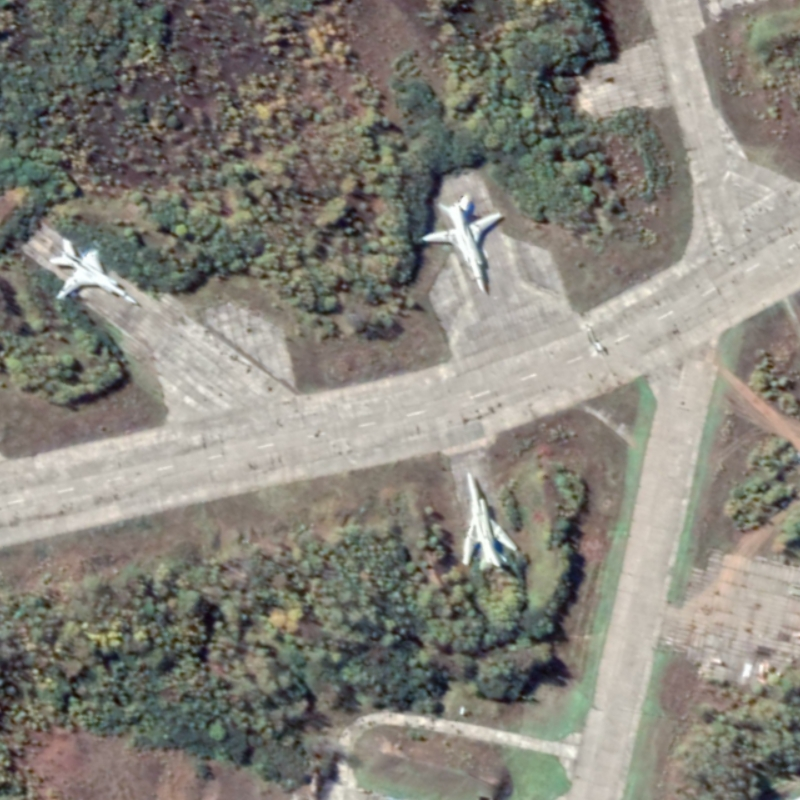A12: (419, 192, 506, 296), (46, 236, 146, 308), (457, 471, 519, 572)
